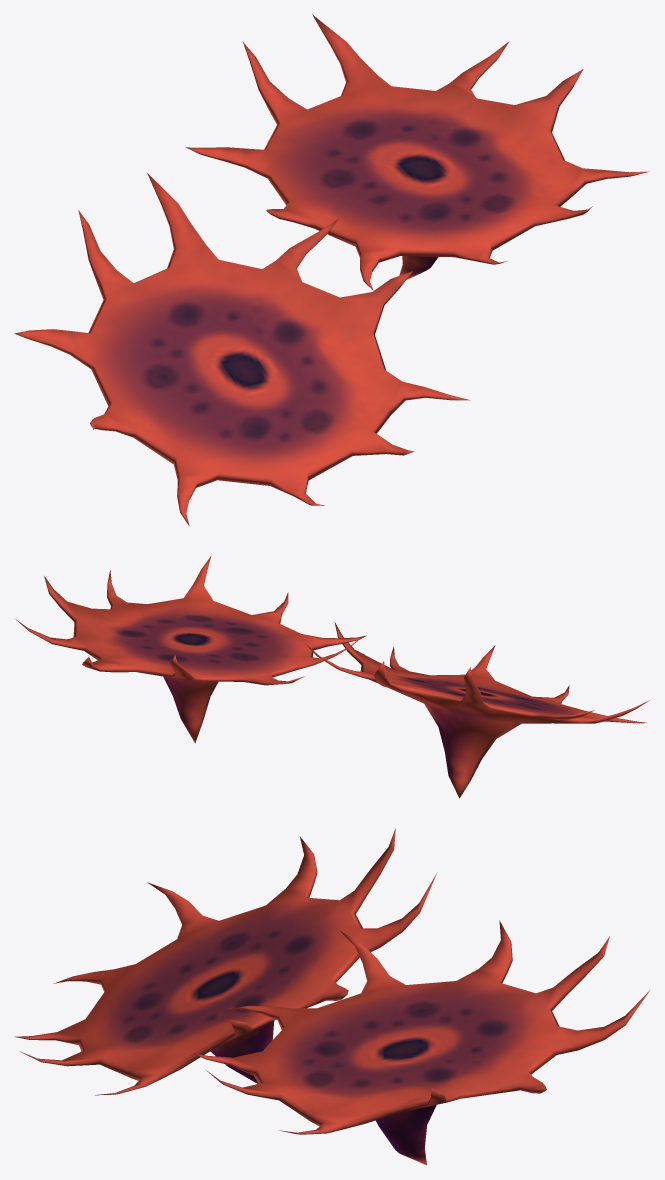
File: Cartoon Seaweed_13-1-35.fbx
3 views of the same model, one above another, from view 1: azimuth 30°, elevation 25°; view 2: azimuth 150°, elevation 25°; view 3: azimuth 270°, elevation 25° (orthographic). The views are drawn at different scales.
Visible parts, largest first — view 1: Cartoon Seaweed_13.1.35; view 2: Cartoon Seaweed_13.1.35; view 3: Cartoon Seaweed_13.1.35.
Part boxes in pixels (box(x1,y1,x2,y2)): Cartoon Seaweed_13.1.35: box(14, 14, 649, 526); Cartoon Seaweed_13.1.35: box(15, 556, 649, 798); Cartoon Seaweed_13.1.35: box(15, 828, 649, 1165).
Bounding box in the file's own units: 25.48 × 9.42 × 21.67.
Materials: 1 (1 with a texture image).
